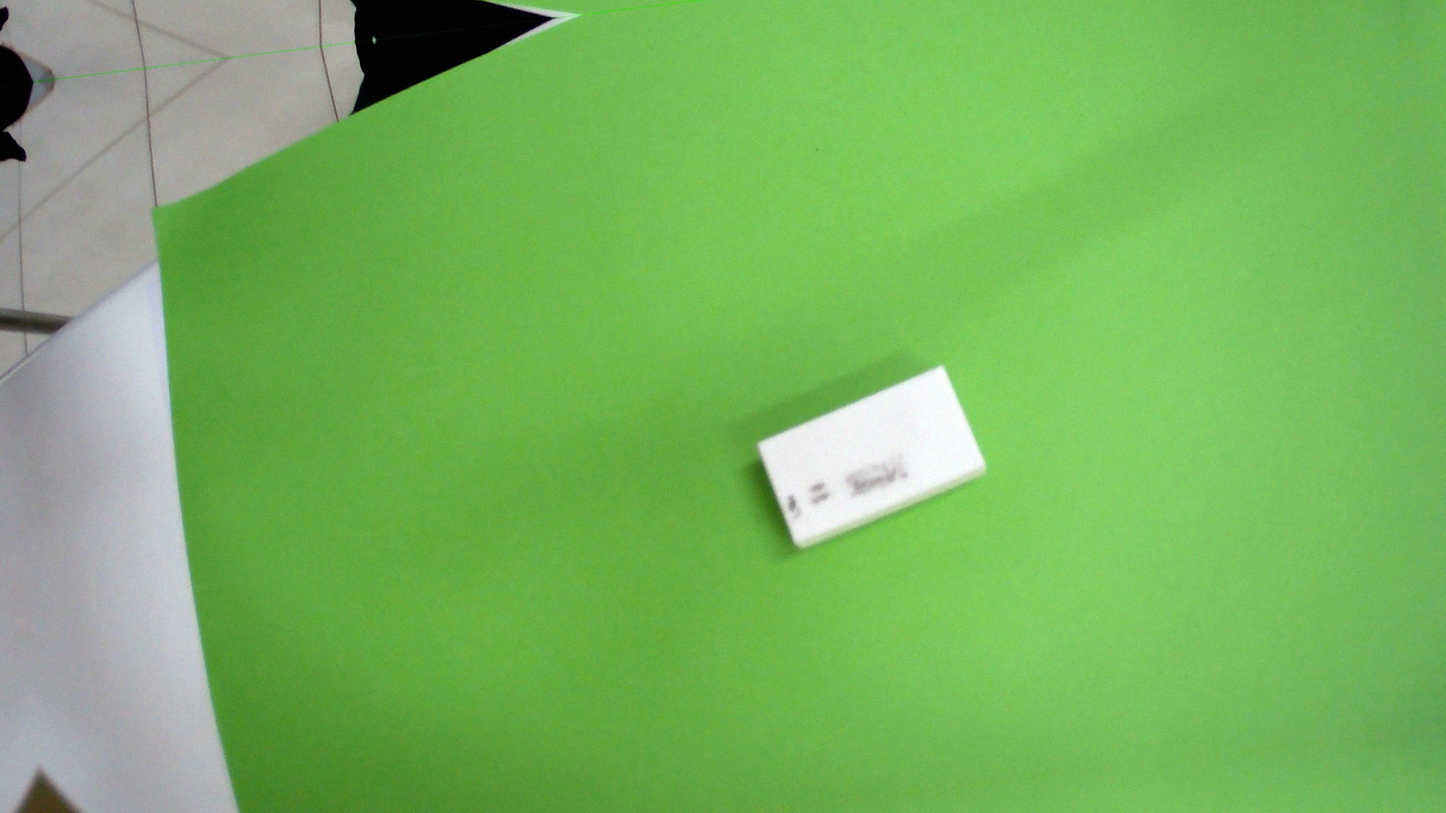gom: (737, 361, 994, 557)
